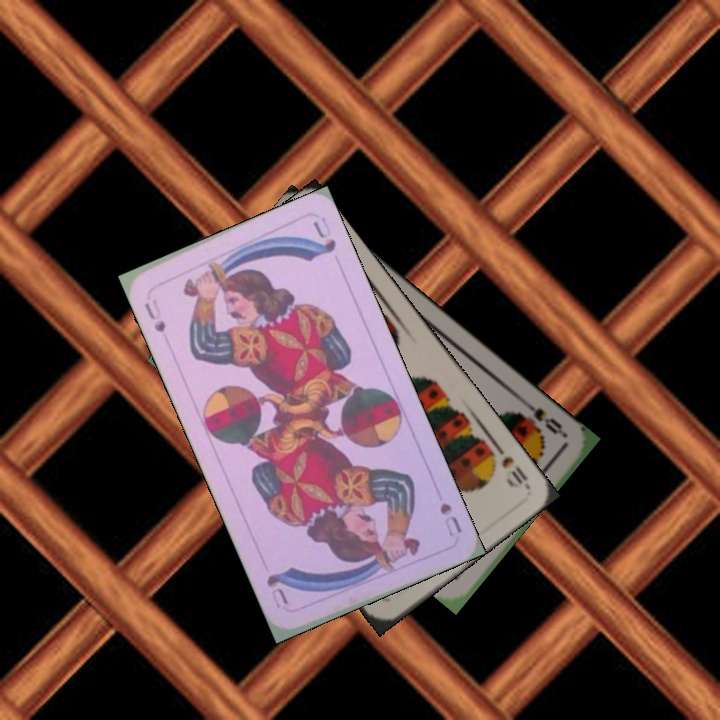S10: (485, 438, 531, 491)
SO: (520, 397, 570, 440)
SU: (435, 498, 465, 540), (140, 298, 169, 335)
